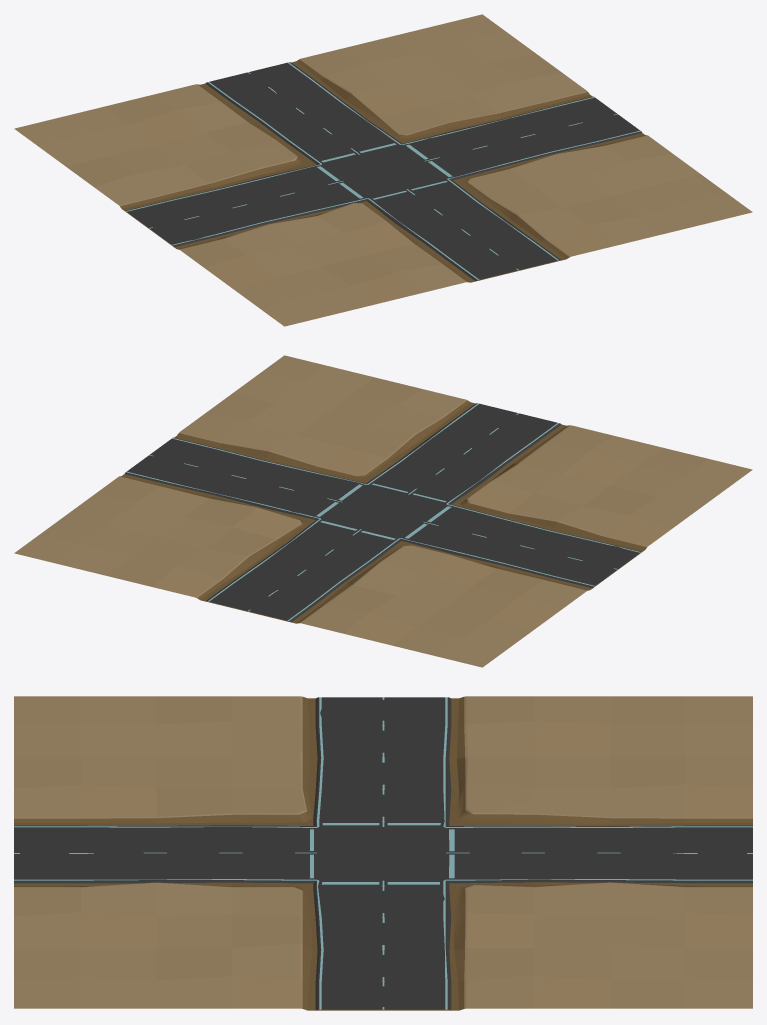
Rendered from model_road_dirt_crossroad_02.fbx.
3 views of the same model, one above another, from view 1: azimuth 30°, elevation 25°; view 2: azimuth 150°, elevation 25°; view 3: azimuth 270°, elevation 25° (orthographic). The views are drawn at different scales.
Visible parts, largest first — view 1: model_road_dirt_crossroad_02; view 2: model_road_dirt_crossroad_02; view 3: model_road_dirt_crossroad_02.
Boxes of the visible parts, x1,y1,x2,y2 form: model_road_dirt_crossroad_02: (14,14,752,326); model_road_dirt_crossroad_02: (14,355,752,667); model_road_dirt_crossroad_02: (14,696,752,1010).
Size of the model in its own units: 6000 by 62.08 by 6000.
Materials: 1 (1 with a texture image).
